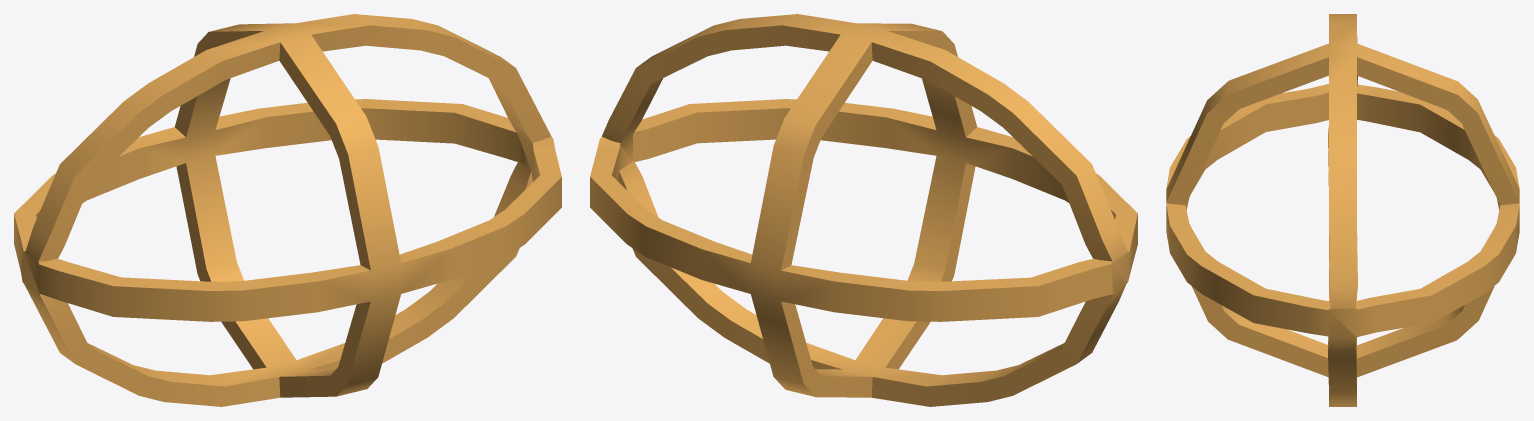
The model's file is OvalMesh_03.fbx.
3 views of the same model, side by side, from view 1: azimuth 30°, elevation 25°; view 2: azimuth 150°, elevation 25°; view 3: azimuth 270°, elevation 25° (orthographic). The views are drawn at different scales.
Parts seen in each view (by area): view 1: OvalMesh_03; view 2: OvalMesh_03; view 3: OvalMesh_03.
Boxes of the visible parts, box(x1,y1,x2,y2) form: OvalMesh_03: box(14, 14, 561, 406); OvalMesh_03: box(590, 14, 1137, 406); OvalMesh_03: box(1166, 14, 1519, 406).
Size of the model in its own units: 406 by 268 by 268.
